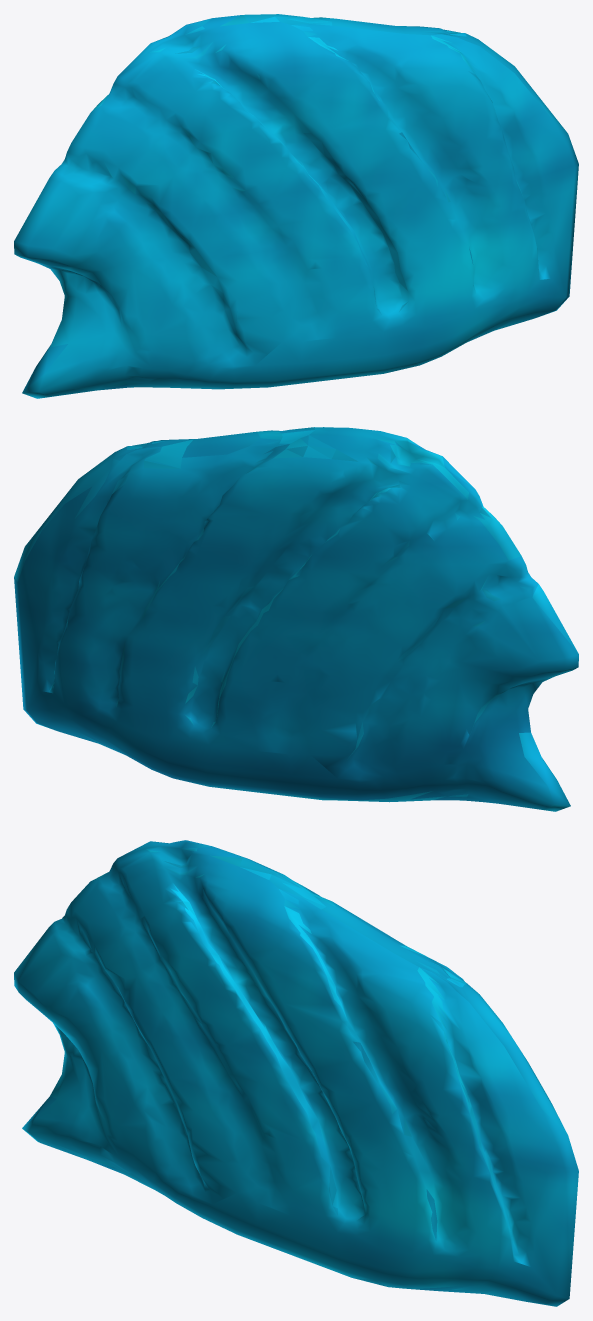
File: Fin1.fbx
3 views of the same model, one above another, from view 1: azimuth 30°, elevation 25°; view 2: azimuth 150°, elevation 25°; view 3: azimuth 330°, elevation 25° (orthographic).
Visible parts, largest first — view 1: Fin1; view 2: Fin1; view 3: Fin1.
Boxes of the visible parts, x1,y1,x2,y2 form: Fin1: (14, 14, 578, 398); Fin1: (14, 427, 578, 811); Fin1: (14, 840, 578, 1306).
Bounding box in the file's own units: 79.97 × 52.87 × 11.43.
